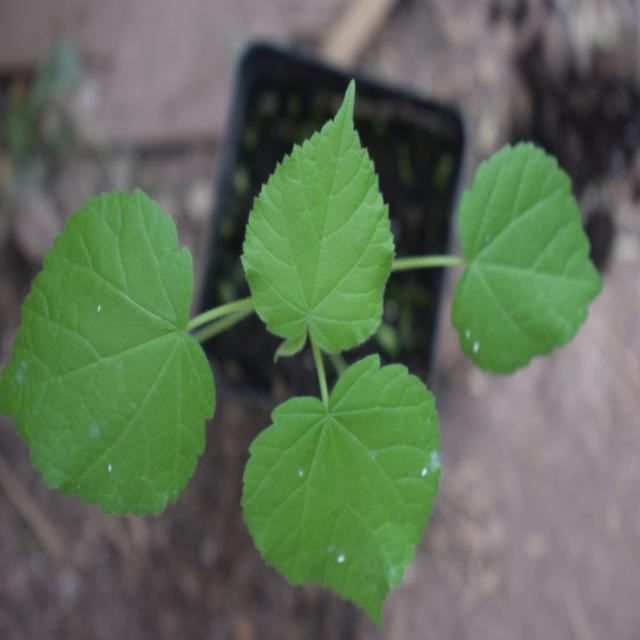abutilon theophrasti: (25, 125, 580, 603)
